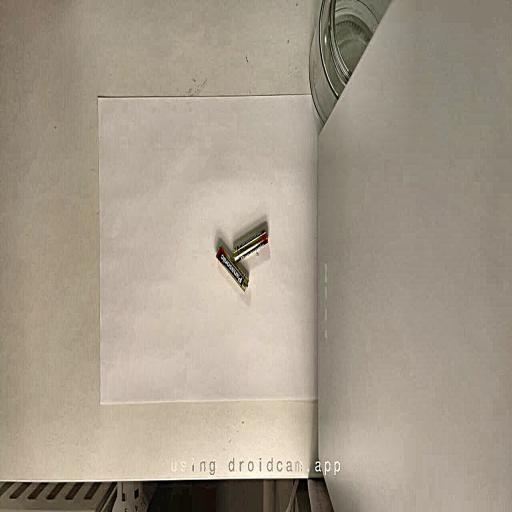PanasonicAAA: (216, 245, 248, 292), (233, 224, 268, 262)
